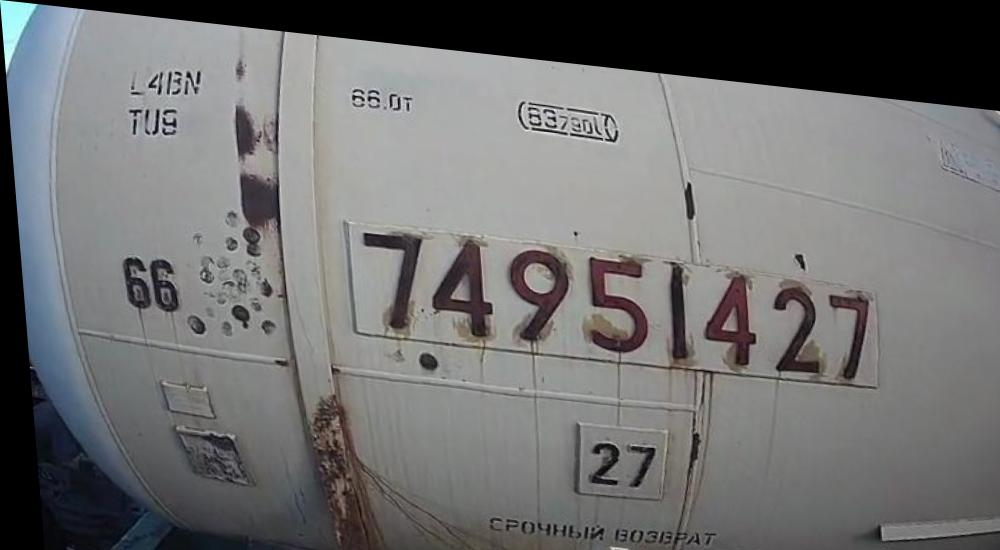Wagon-number: (350, 217, 878, 369)
